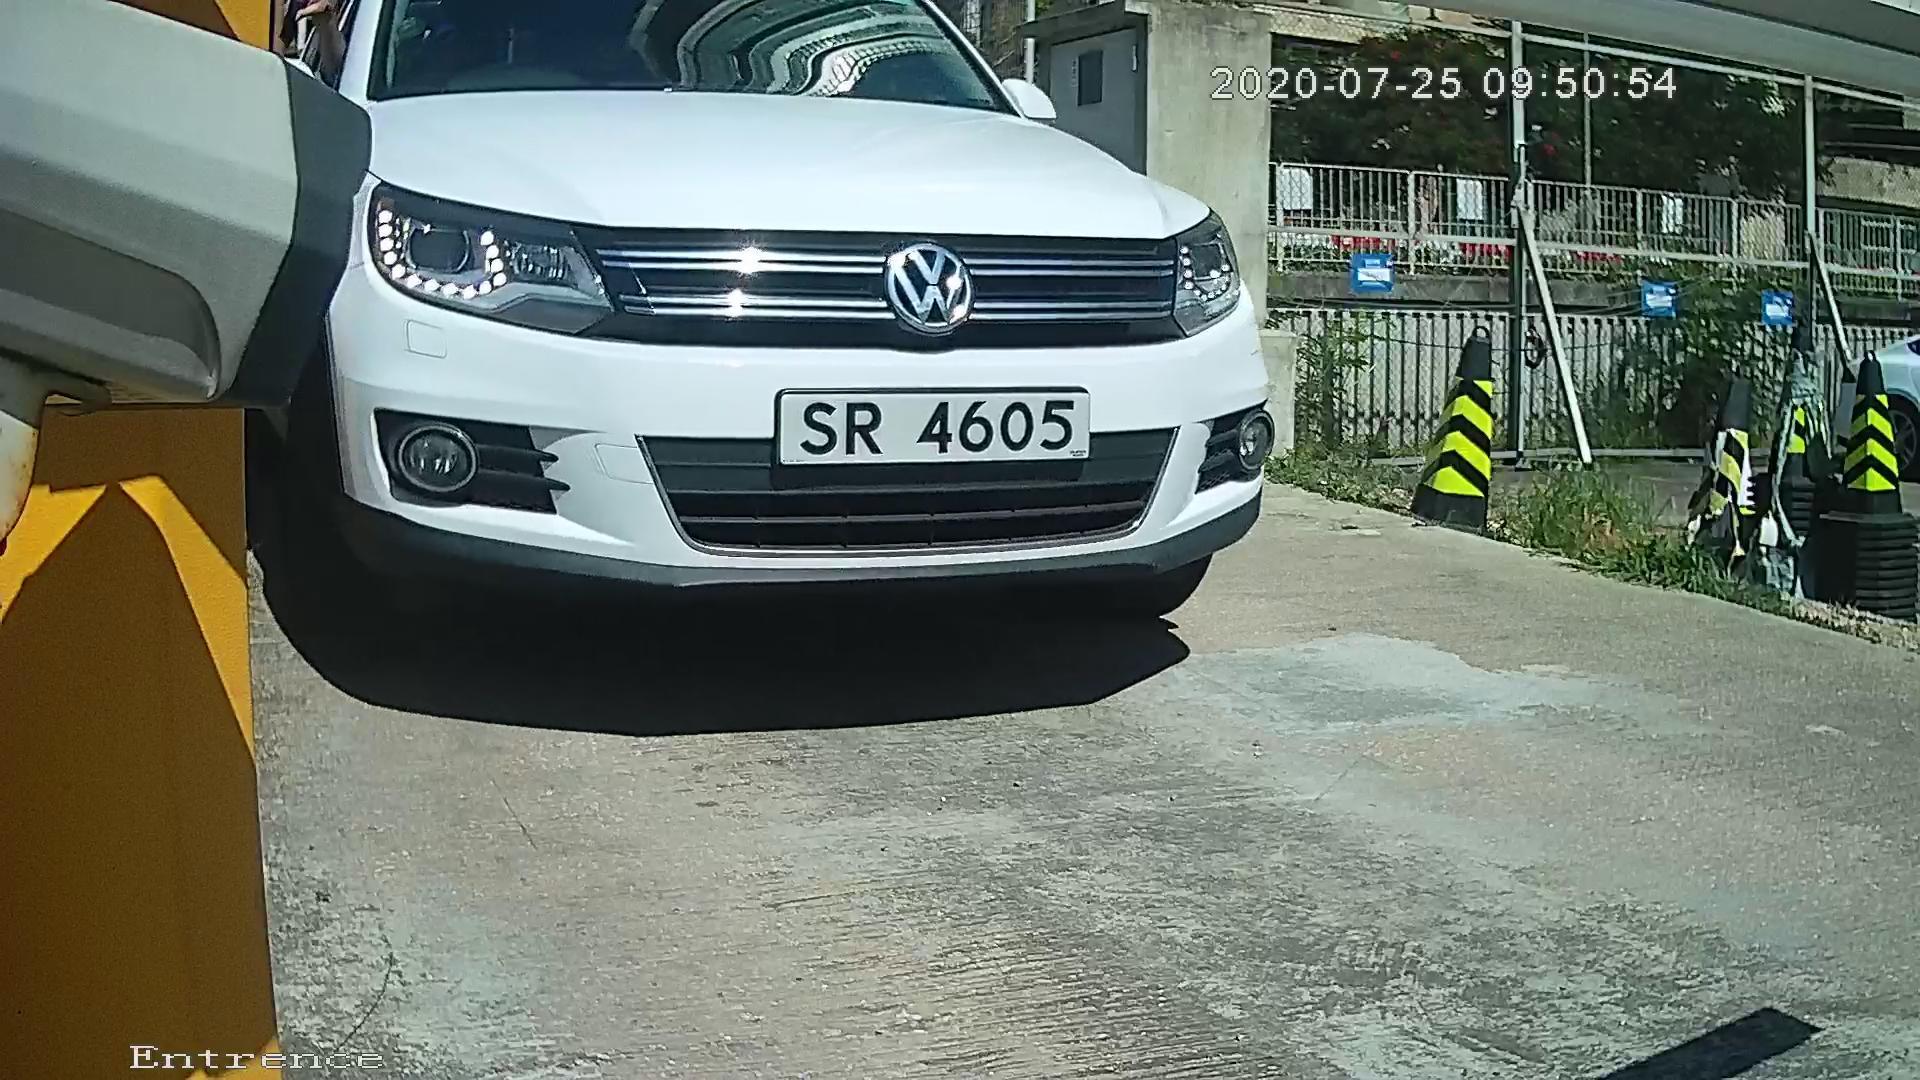Car: (43, 1, 1415, 700)
License Plate: (729, 372, 1115, 483)
